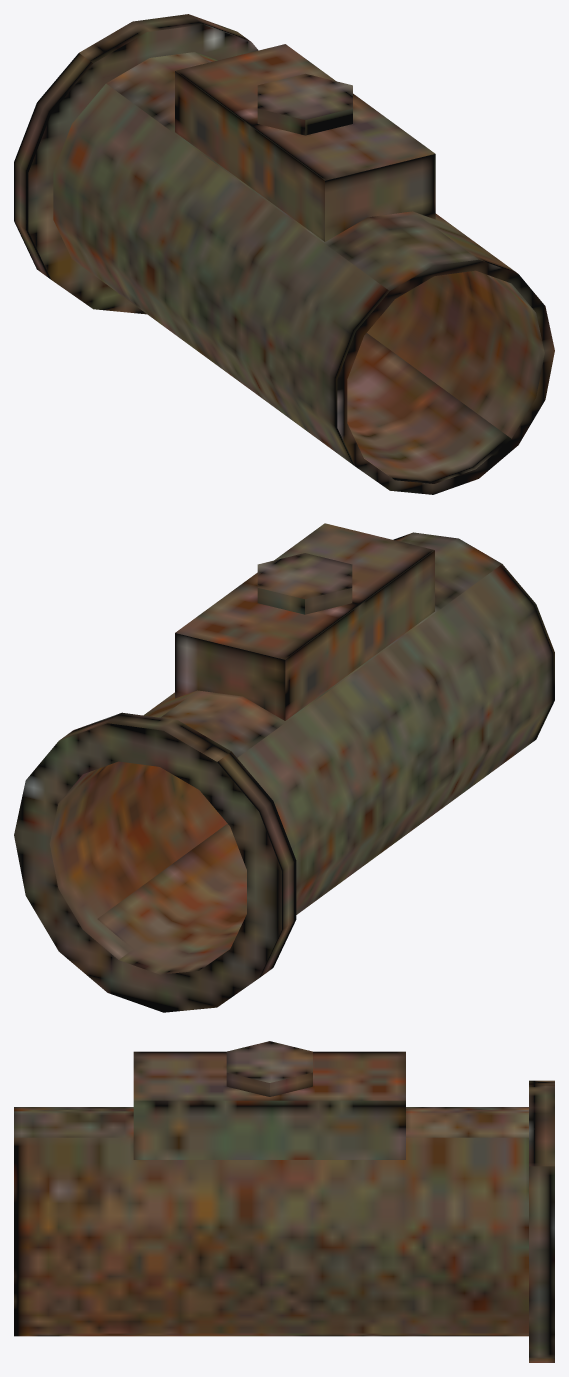
Rendered from Pipe_Set_3_12.glb.
3 renders of one model, top to bottom at view 1: azimuth 30°, elevation 25°; view 2: azimuth 150°, elevation 25°; view 3: azimuth 270°, elevation 25°, orthographic. The views are drawn at different scales.
Parts seen in each view (by area): view 1: Pipe_Set_3_12; view 2: Pipe_Set_3_12; view 3: Pipe_Set_3_12.
Part boxes in pixels (bbox=[...]): Pipe_Set_3_12: bbox=[14, 14, 554, 494]; Pipe_Set_3_12: bbox=[14, 523, 554, 1012]; Pipe_Set_3_12: bbox=[14, 1041, 554, 1362].
Bounding box in the file's own units: 0.0823 × 0.0933 × 0.1586.
1 material, 1 textured.
